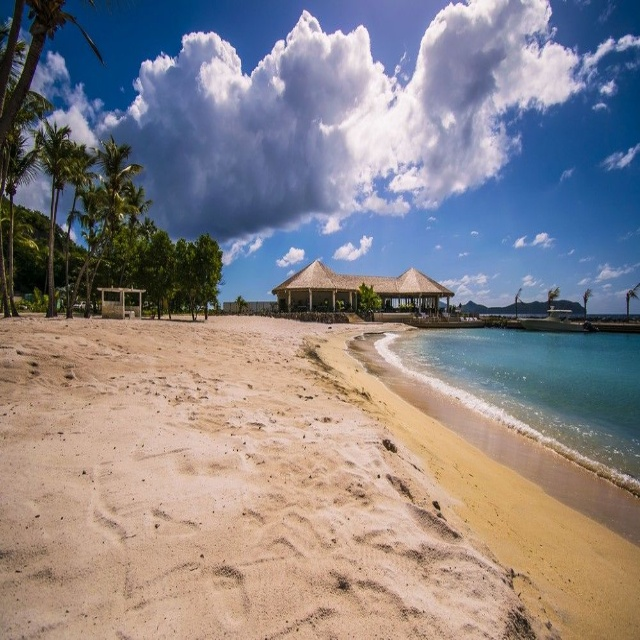linhaEspraiamento: (354, 344, 638, 535), (304, 327, 418, 354)
